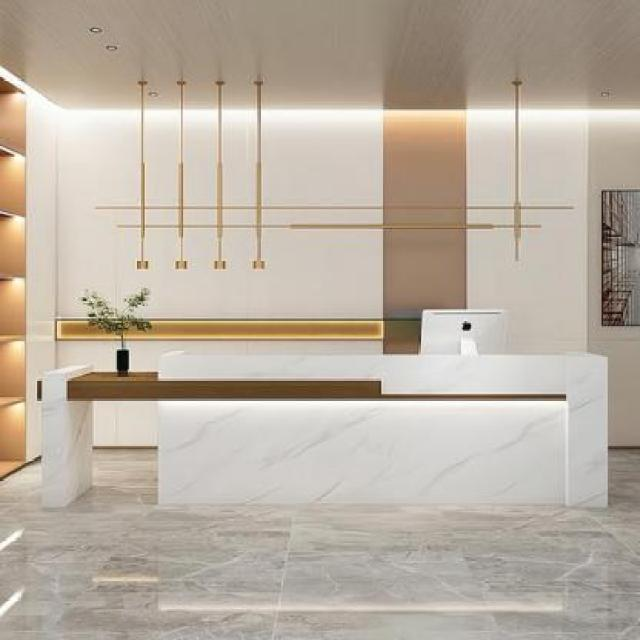frontdesk: (25, 357, 610, 515)
